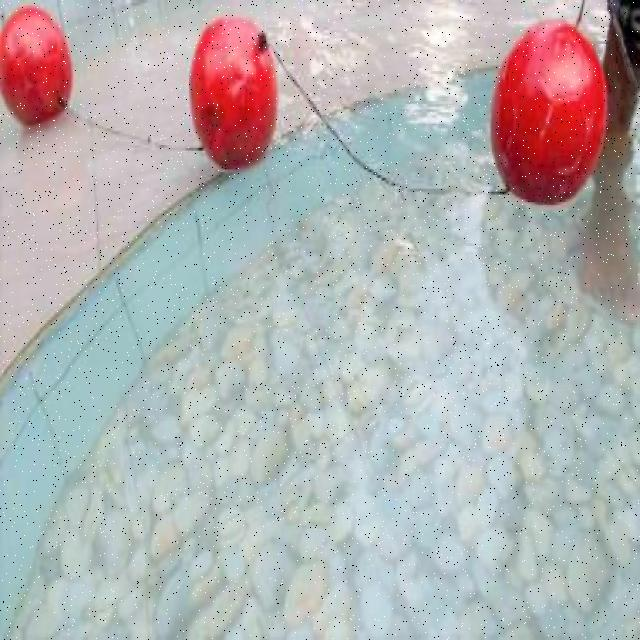buoy: (490, 18, 608, 207), (188, 15, 277, 171), (1, 5, 73, 126)
